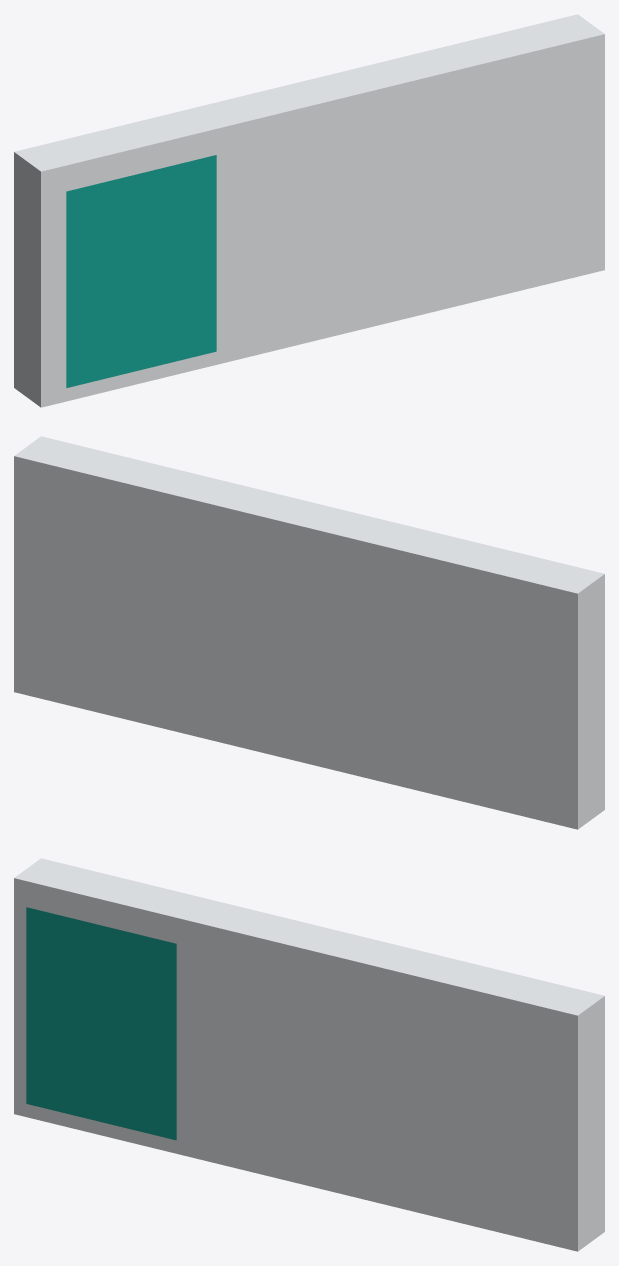
File: CM_Accessory_NameBadge.fbx
3 views of the same model, one above another, from view 1: azimuth 30°, elevation 25°; view 2: azimuth 150°, elevation 25°; view 3: azimuth 330°, elevation 25° (orthographic).
Parts seen in each view (by area): view 1: Handle; view 2: Handle; view 3: Handle.
Boxes of the visible parts, x1,y1,x2,y2 form: Handle: [14, 14, 604, 407]; Handle: [14, 436, 604, 829]; Handle: [14, 858, 604, 1251].
Size of the model in its own units: 0.6 by 0.062 by 0.24.
Materials: 1 (1 with a texture image).
